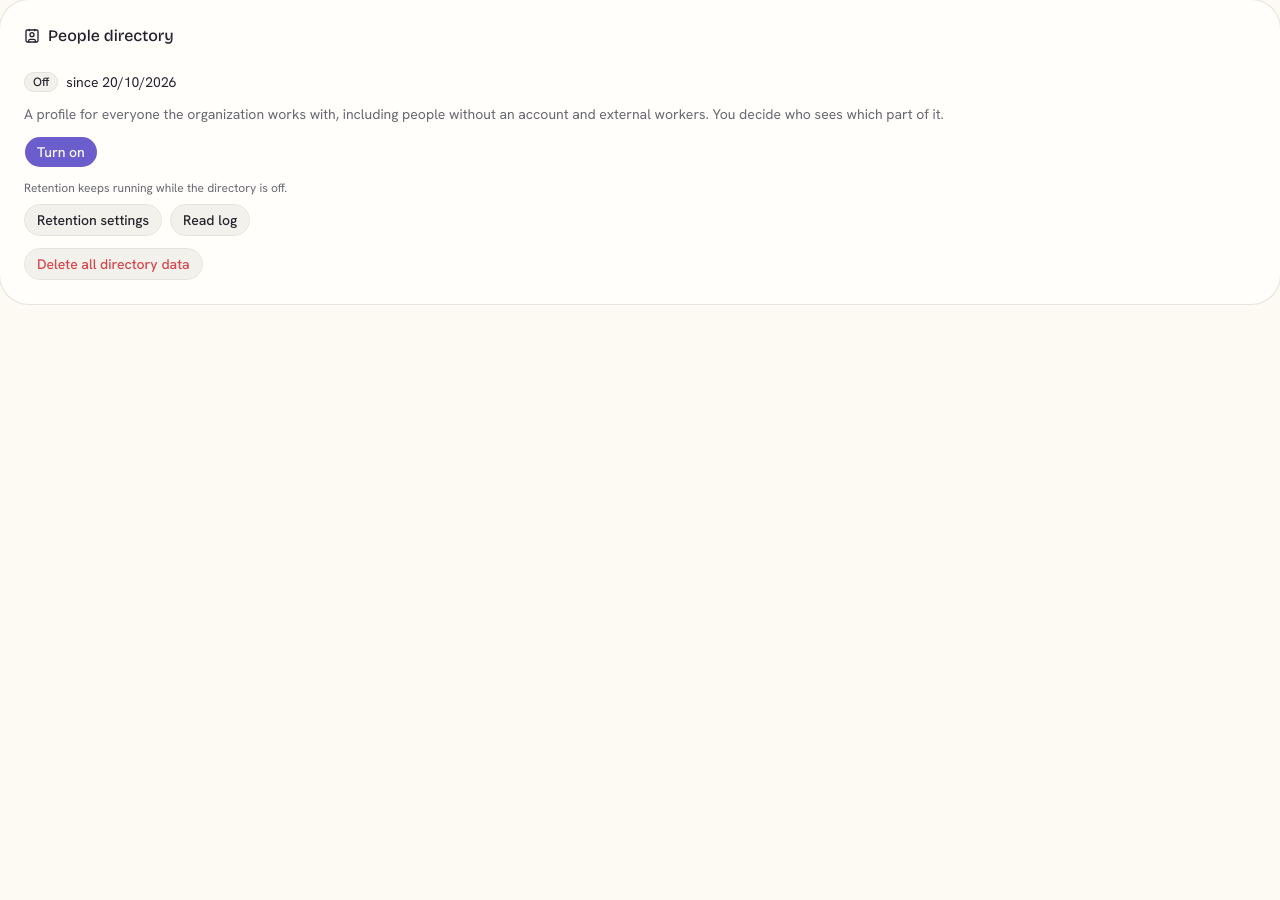
Test: DirectoryCard › Delete all directory data › explains a refusal in words
Click the button "Delete all directory data": coordinates (113, 264) x1=24 y1=248 x2=203 y2=280
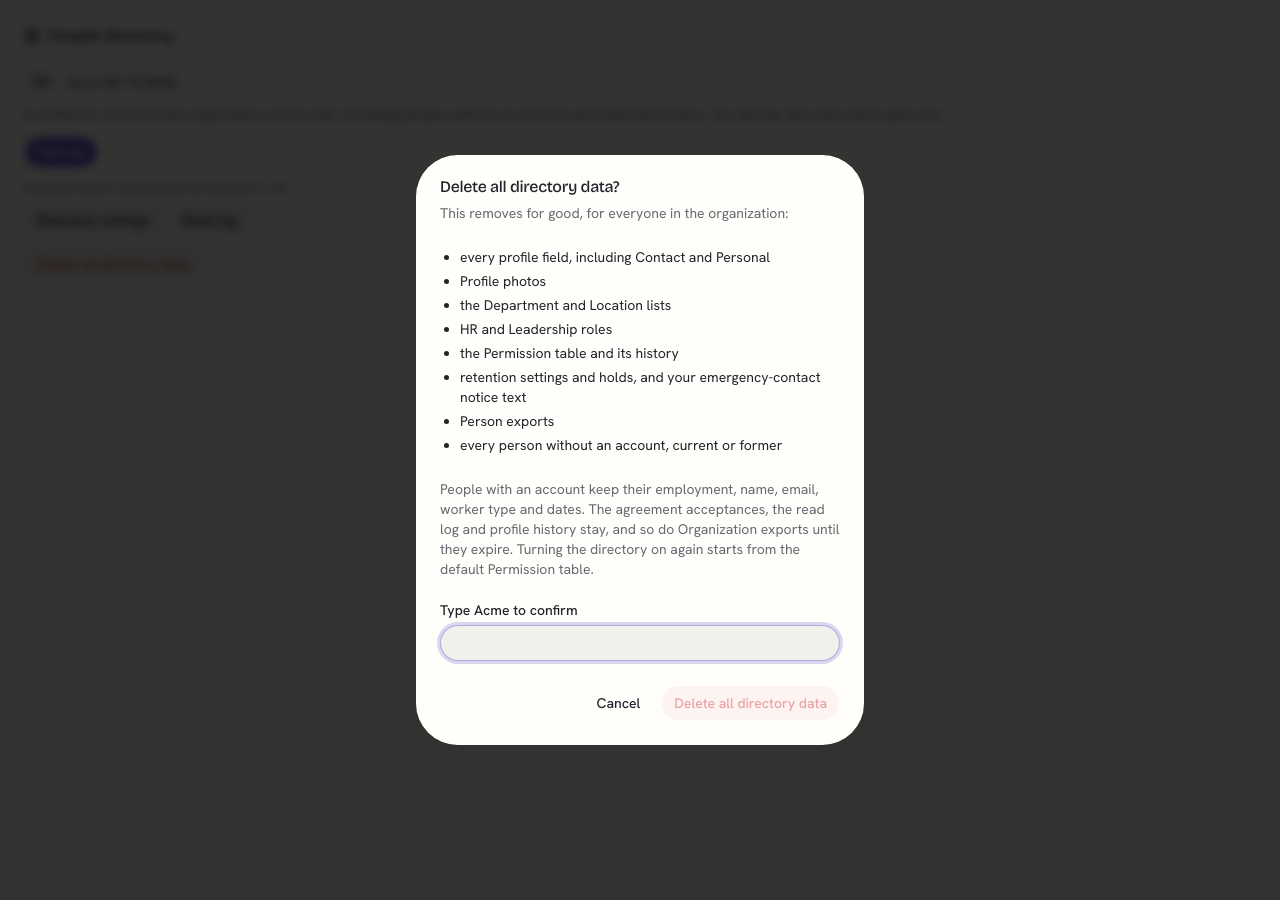
In the field labelled "Type Acme to confirm": coordinates (640, 643) x1=440 y1=625 x2=840 y2=661, type "Acme"
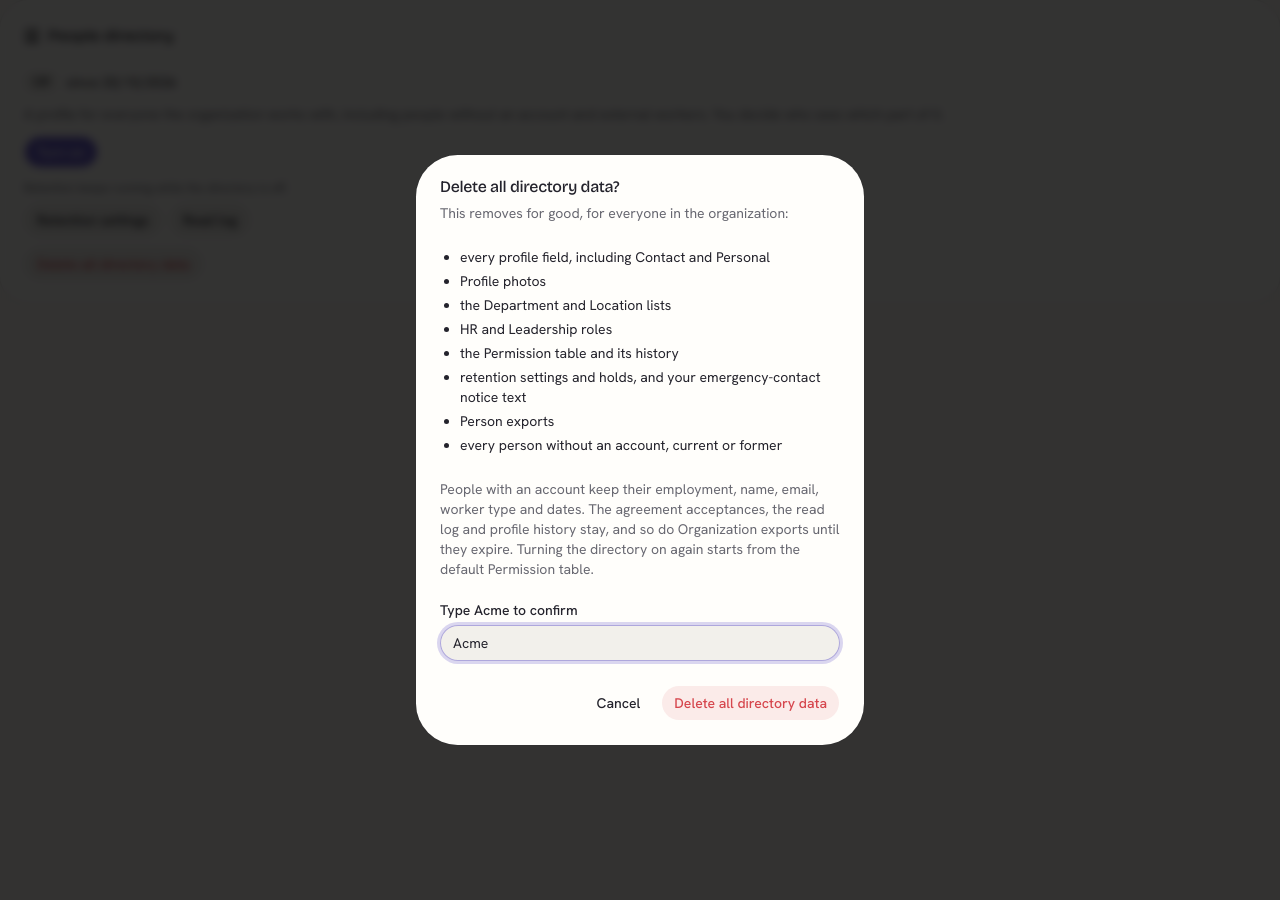
Click the button "Delete all directory data": coordinates (751, 703) x1=661 y1=685 x2=840 y2=721
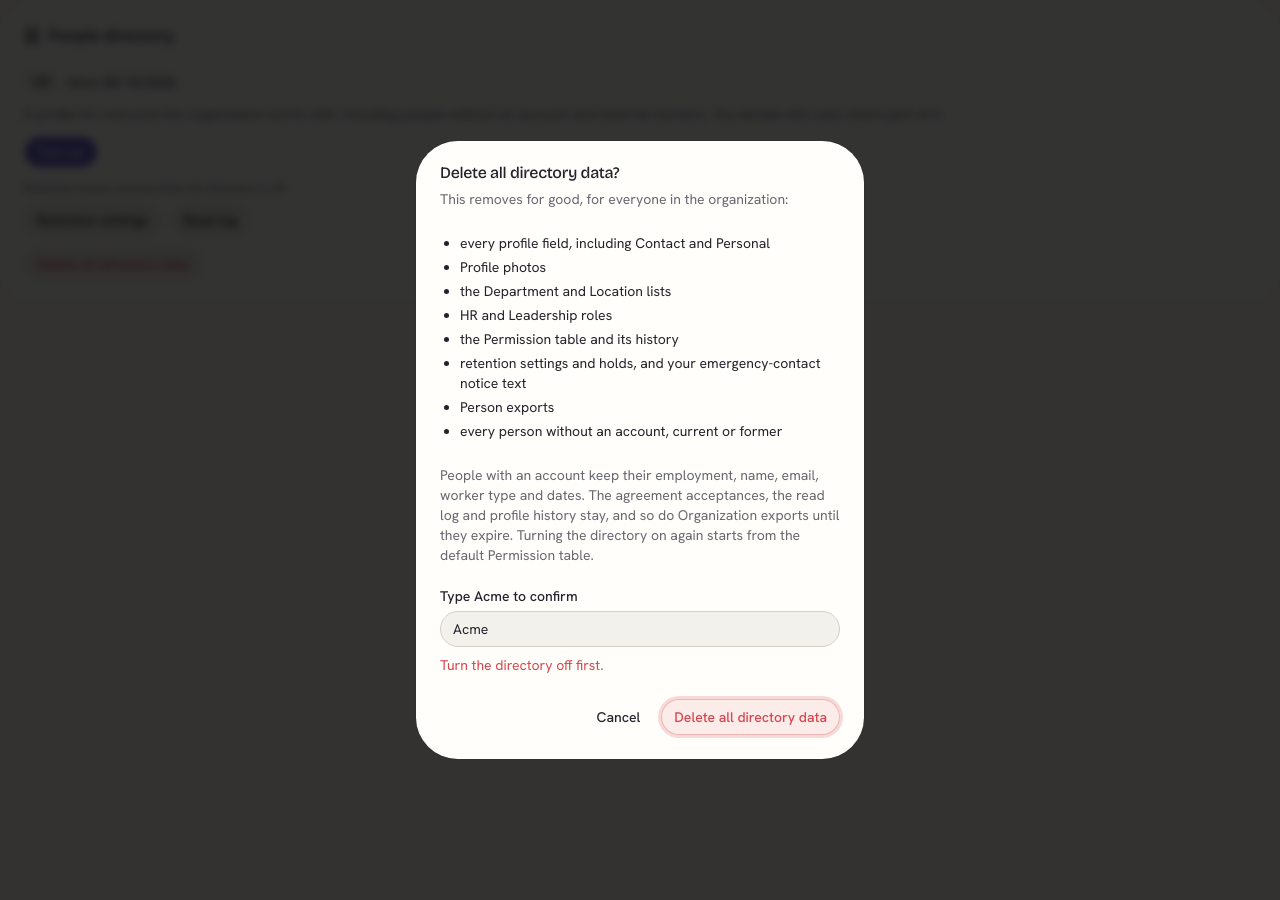
Now the text "Turn the directory off first." is shown, box x1=440 y1=656 x2=604 y2=674
